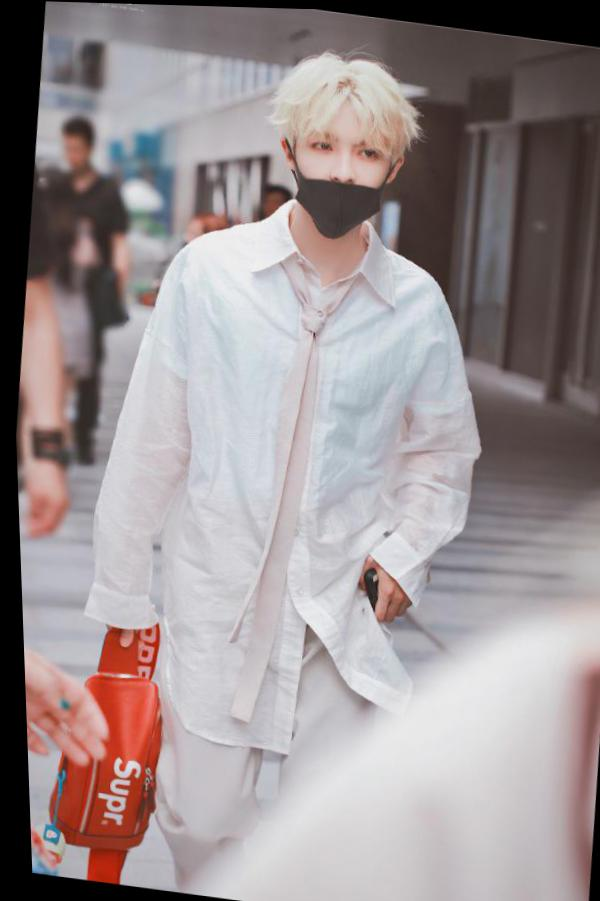WRONG: (286, 112, 395, 242)
